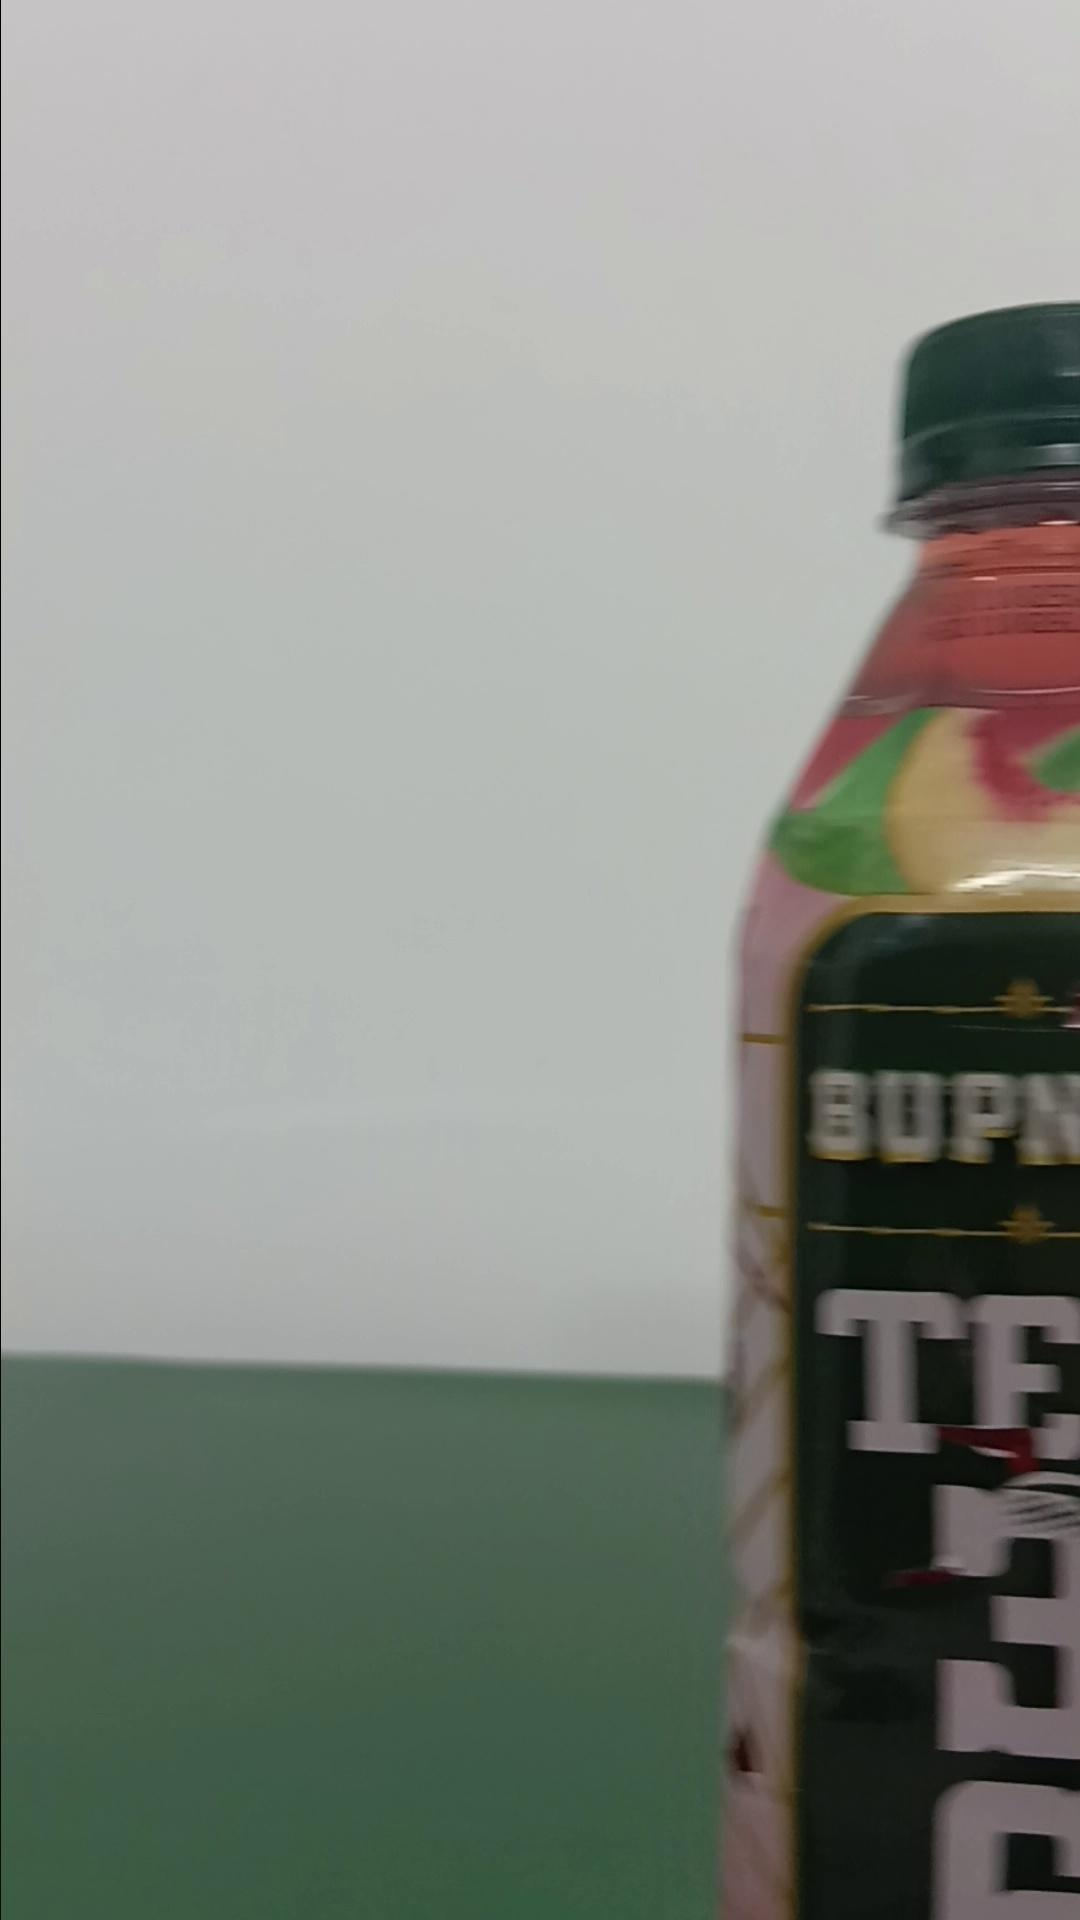loi rach va lap chai: (721, 285, 1077, 1920)
